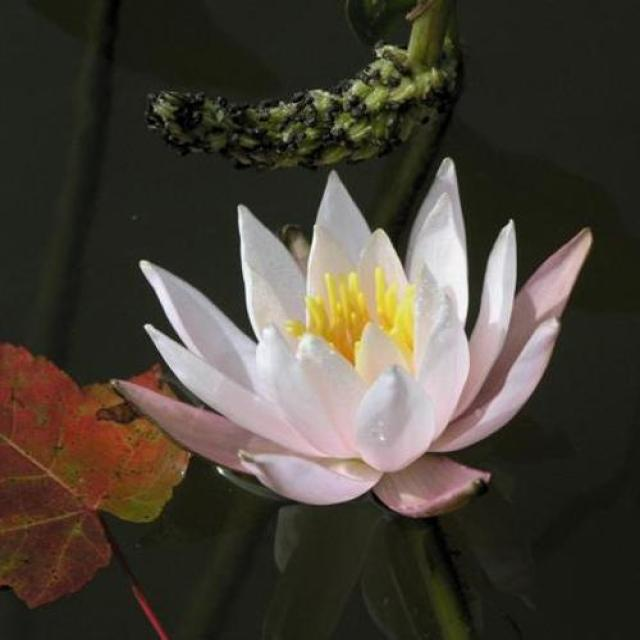water-lily: (100, 145, 591, 548)
